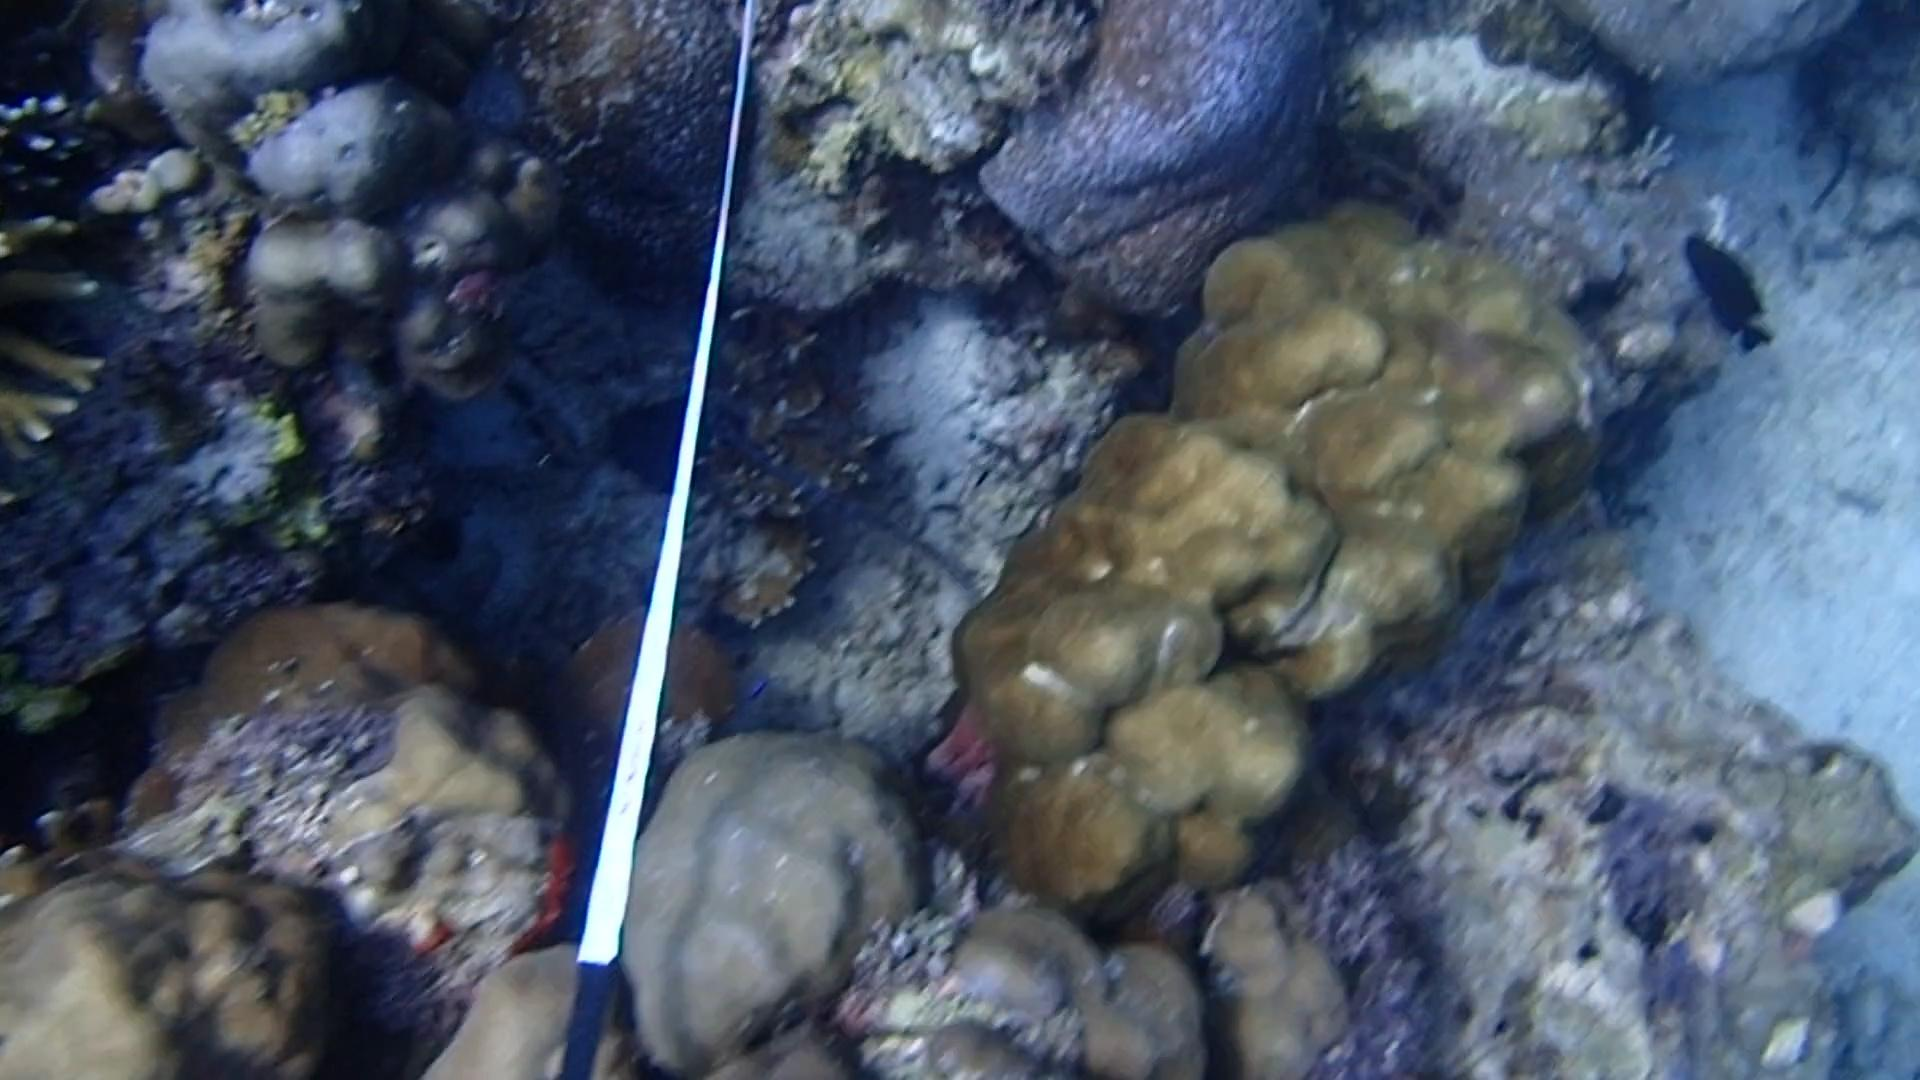Dark Fish: (1677, 233, 1780, 360)
